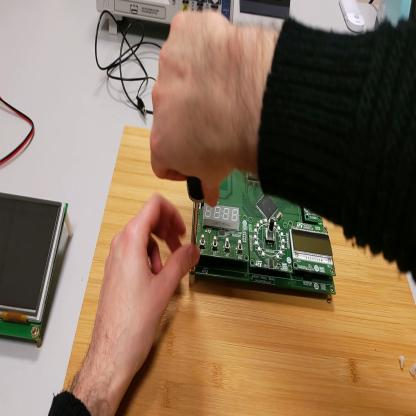hand: (93, 193, 199, 381), (148, 7, 246, 208)
low voltage board: (192, 165, 337, 294)
oscilloscope: (97, 1, 236, 41)
screwdriver-: (189, 178, 204, 251)
welder station: (386, 2, 416, 26)
working area: (62, 124, 416, 416)
